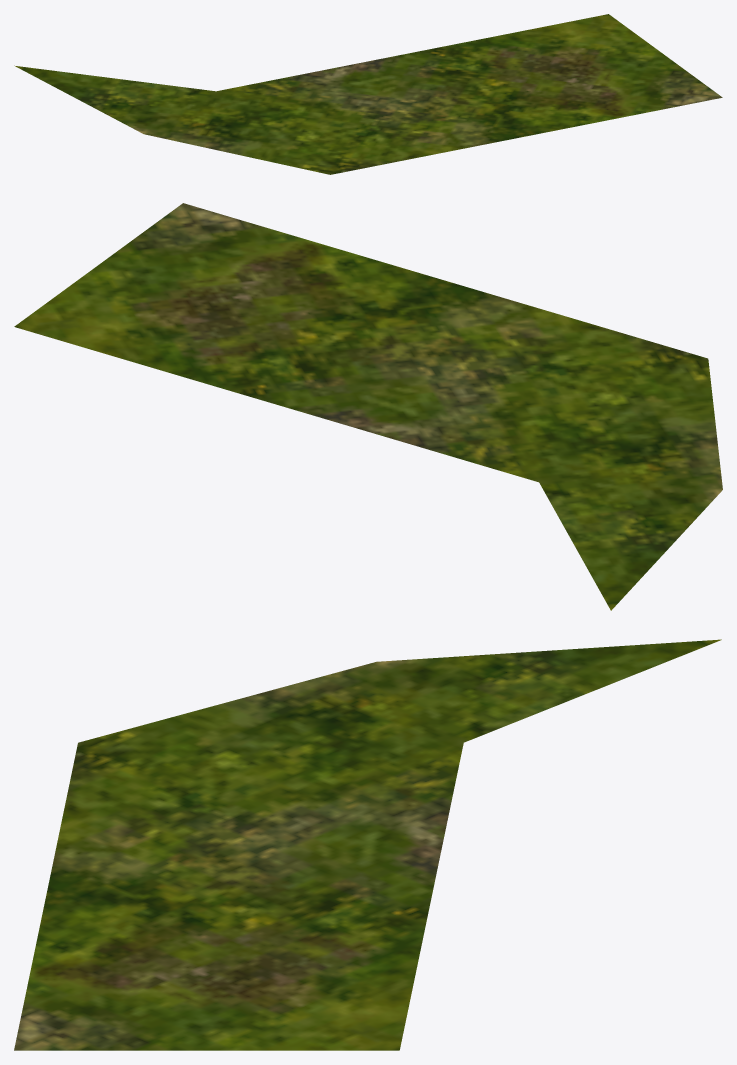
File: OVERHILL_A_01_LINE102.fbx
3 views of the same model, one above another, from view 1: azimuth 30°, elevation 25°; view 2: azimuth 150°, elevation 25°; view 3: azimuth 270°, elevation 25° (orthographic). The views are drawn at different scales.
Visible parts, largest first — view 1: OVERHILL_A_01_LINE102; view 2: OVERHILL_A_01_LINE102; view 3: OVERHILL_A_01_LINE102.
Boxes of the visible parts, bbox=[...] form: OVERHILL_A_01_LINE102: bbox=[14, 14, 722, 174]; OVERHILL_A_01_LINE102: bbox=[14, 203, 722, 610]; OVERHILL_A_01_LINE102: bbox=[14, 639, 721, 1050].
Size of the model in its own units: 13312 by 0.0504 by 9705.
Materials: 1 (1 with a texture image).
